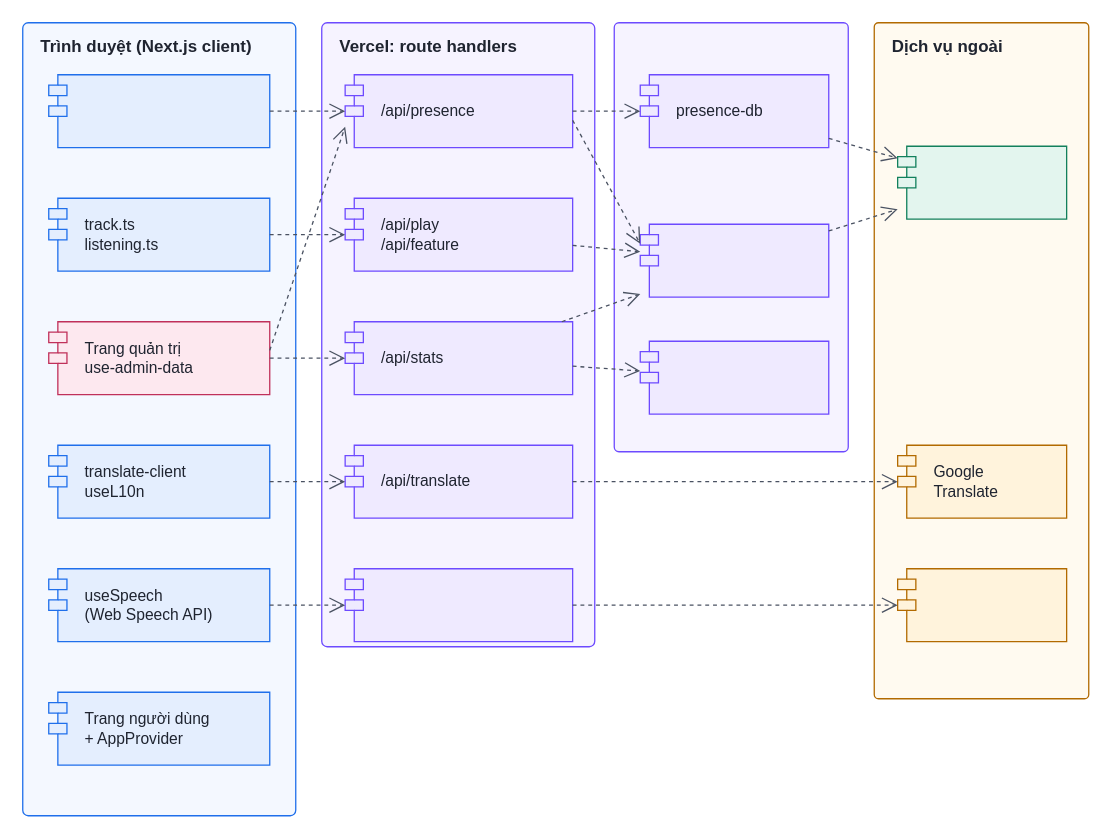
The diagram is 1112 pixels wide and 838 high, and some of its shapes have lost their labels. The box of each missing label's shape, as (x1, y1, x2, y2) in pixels:
/api/tts: (344, 567, 573, 642)
admin-auth: (639, 340, 829, 414)
Google Translate TTS: (896, 567, 1067, 642)
lib (chạy ở máy chủ): (613, 21, 848, 452)
PresenceBeacon: (47, 73, 270, 148)
Supabase (REST): (896, 145, 1067, 219)
visits-db: (639, 223, 829, 297)
